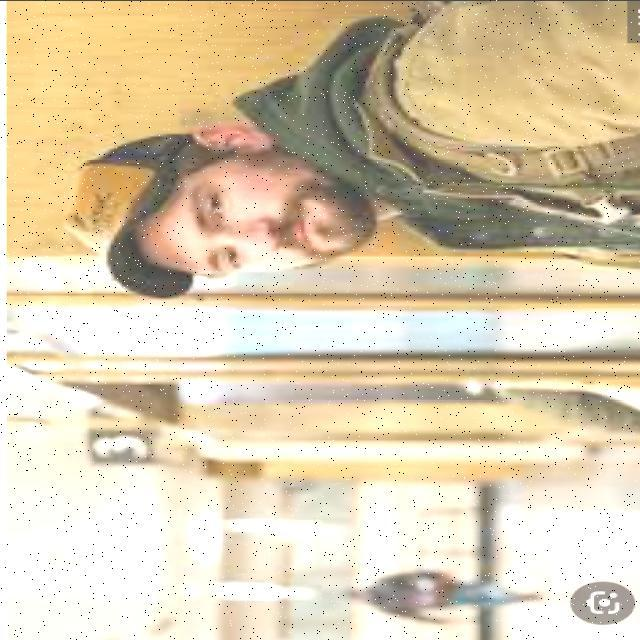face_no_mask: (161, 125, 371, 281)
